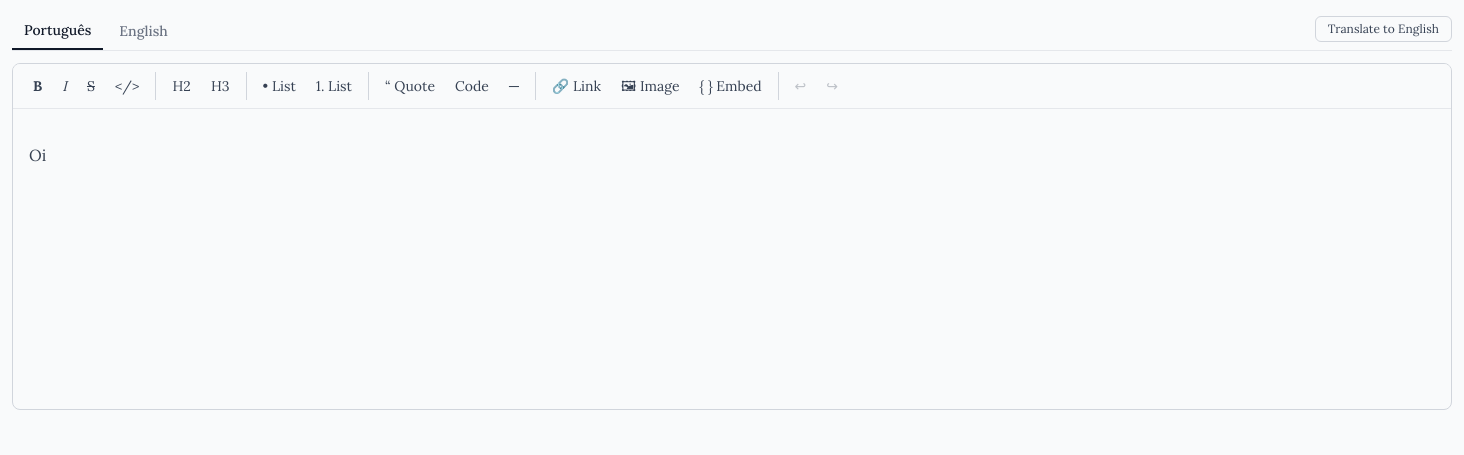
ContentLocaleFields › surfaces a partial-translation warning without discarding the result
Click the button "Translate to English".
click(1383, 29)  # box [1315, 16, 1452, 42]
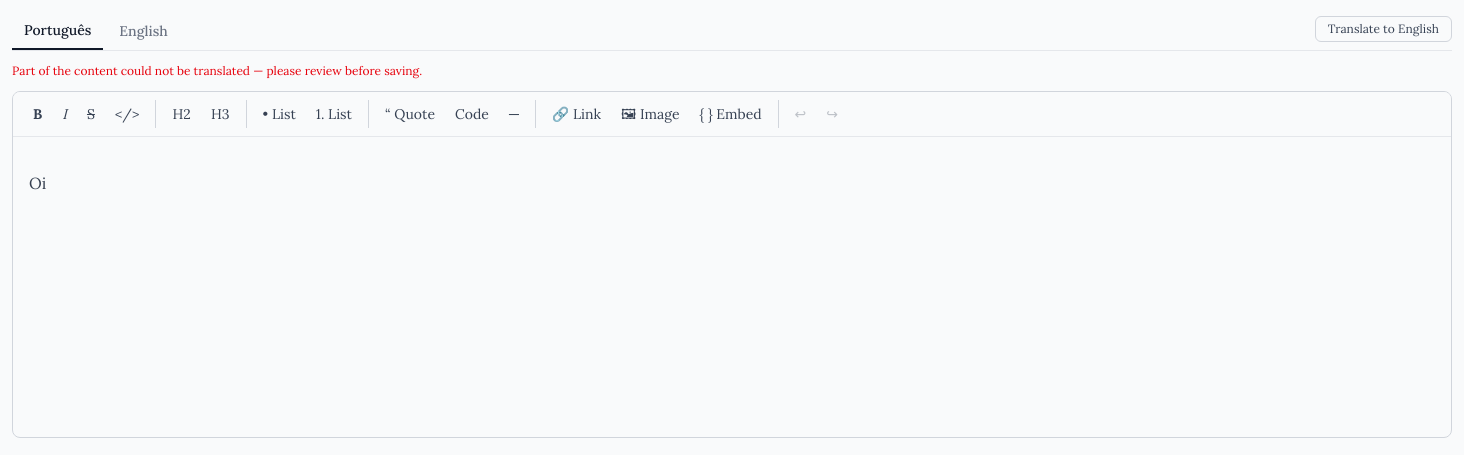
Expected: the text "could not be translated" is shown, [12, 63, 422, 78]
